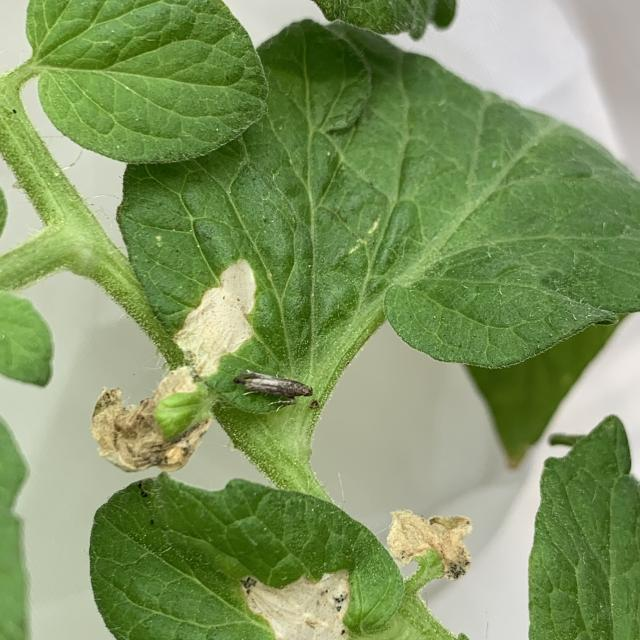Adult: (234, 371, 312, 399)
